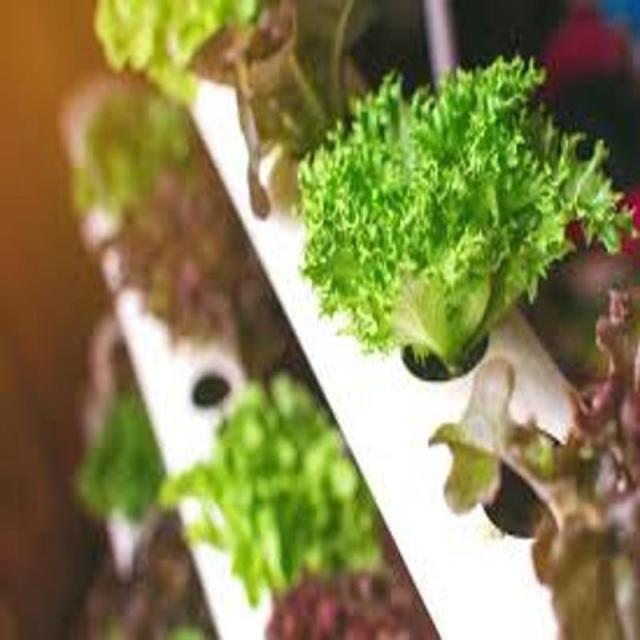Lettuce: (292, 55, 630, 373), (430, 293, 640, 640), (168, 390, 377, 598), (196, 0, 376, 211), (106, 162, 296, 346), (70, 70, 200, 215), (88, 0, 251, 103), (70, 380, 177, 530), (258, 558, 438, 640), (84, 535, 214, 637)
